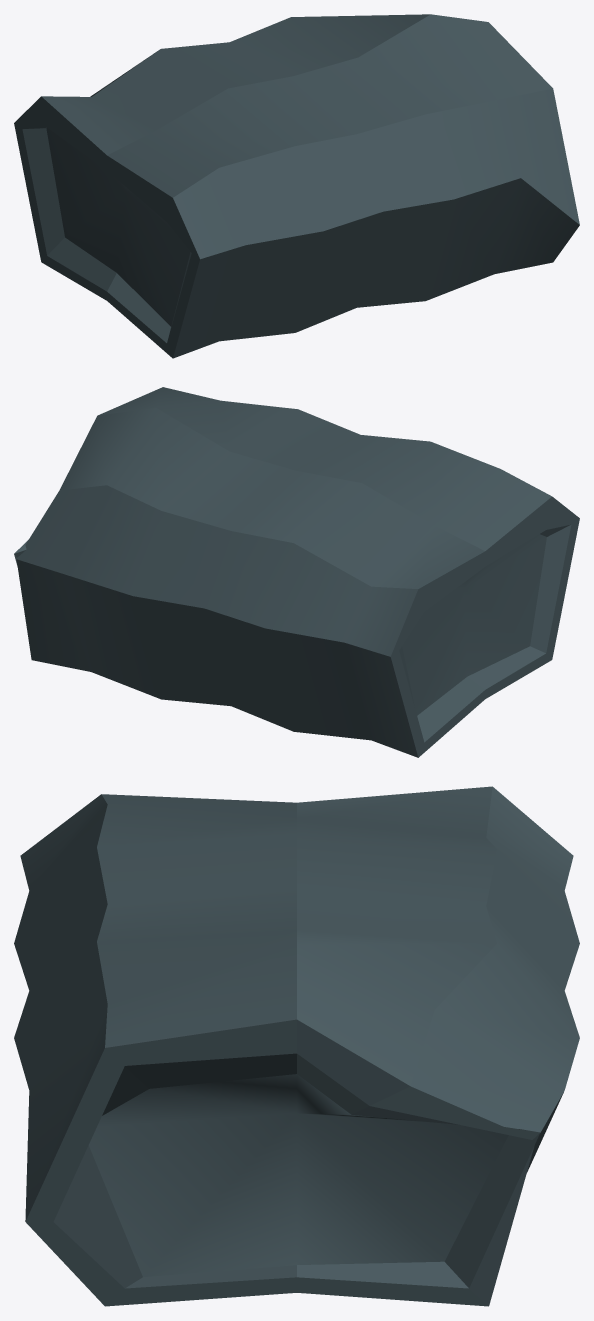
Rendered from Tin_can_squashed.fbx.
3 renders of one model, top to bottom at view 1: azimuth 30°, elevation 25°; view 2: azimuth 150°, elevation 25°; view 3: azimuth 270°, elevation 25°, orthographic. The views are drawn at different scales.
Parts seen in each view (by area): view 1: Tin_Can_Squashed; view 2: Tin_Can_Squashed; view 3: Tin_Can_Squashed.
Boxes of the visible parts, <box> form: Tin_Can_Squashed: <box>14,14,579,358</box>; Tin_Can_Squashed: <box>14,387,579,757</box>; Tin_Can_Squashed: <box>14,786,579,1306</box>.
Size of the model in its own units: 0.9698 by 0.5341 by 0.8384.
